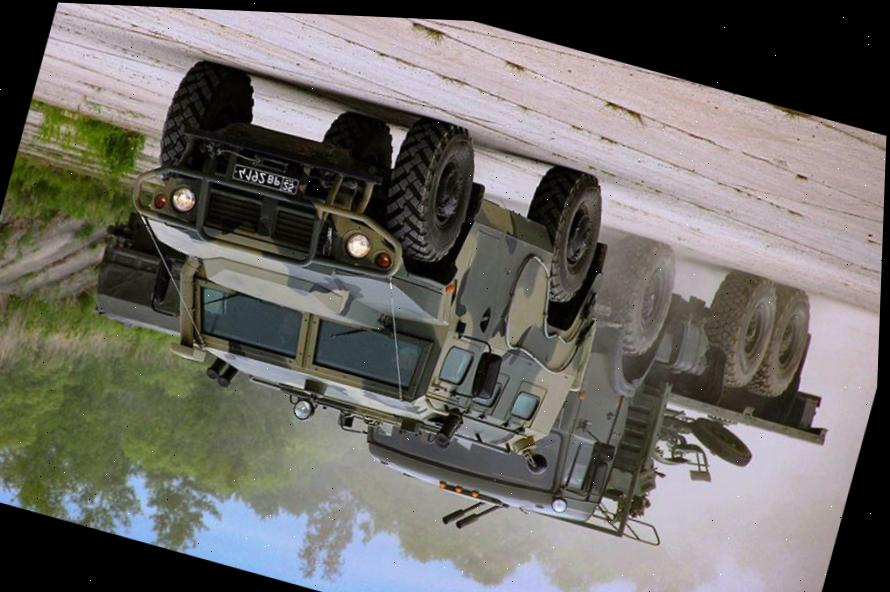armored_car: (82, 39, 638, 492)
truck: (343, 173, 867, 592)
